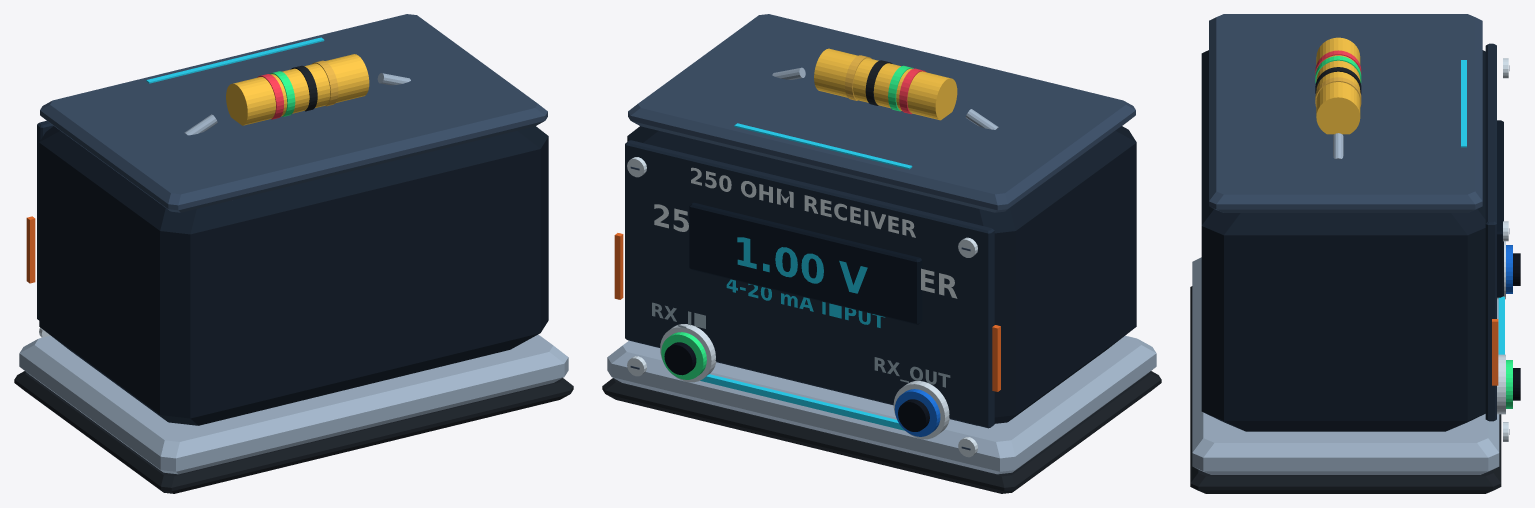
File: 05_250Ohm_Receiver.fbx
3 renders of one model, left to right at view 1: azimuth 30°, elevation 25°; view 2: azimuth 150°, elevation 25°; view 3: azimuth 270°, elevation 25°, orthographic.
Visible parts, largest first — view 1: 05_250Ohm_Receiver__RX_Chassis, 05_250Ohm_Receiver__RX_Top_Lid, 05_250Ohm_Receiver__RX_Aluminum_Base, 05_250Ohm_Receiver__RX_Footpad_Rubber, 05_250Ohm_Receiver__RX_250Ohm_Ceramic_Resistor, 05_250Ohm_Receiver__RX_Top_Status_Light, 05_250Ohm_Receiver__RX_Front_Console_Plate, 05_250Ohm_Receiver__RX_Left_Orange_Edge; view 2: 05_250Ohm_Receiver__RX_Front_Console_Plate, 05_250Ohm_Receiver__RX_Top_Lid, 05_250Ohm_Receiver__RX_Chassis, 05_250Ohm_Receiver__RX_Aluminum_Base, 05_250Ohm_Receiver__RX_OLED_Glass_Bezel, 05_250Ohm_Receiver__RX_Footpad_Rubber, 05_250Ohm_Receiver__RX_250Ohm_Ceramic_Resistor, 05_250Ohm_Receiver__RX_Upper_Brand, 05_250Ohm_Receiver__RX_Neon_Sill, 05_250Ohm_Receiver__RX_Display_OneVolt, 05_250Ohm_Receiver__RX_Sub_Label, 05_250Ohm_Receiver__RX_Main_Label (+8 smaller); view 3: 05_250Ohm_Receiver__RX_Chassis, 05_250Ohm_Receiver__RX_Top_Lid, 05_250Ohm_Receiver__RX_Aluminum_Base, 05_250Ohm_Receiver__RX_Footpad_Rubber, 05_250Ohm_Receiver__RX_Front_Console_Plate, 05_250Ohm_Receiver__RX_250Ohm_Ceramic_Resistor, 05_250Ohm_Receiver__RX_OLED_Glass_Bezel, 05_250Ohm_Receiver__RX_Top_Status_Light, 05_250Ohm_Receiver__RX_RX_IN_Socket_MetalRim, 05_250Ohm_Receiver__RX_Right_Orange_Edge, 05_250Ohm_Receiver__RX_Neon_Sill.
Boxes of the visible parts, x1,y1,x2,y2 form: 05_250Ohm_Receiver__RX_Chassis: [39, 126, 548, 425]; 05_250Ohm_Receiver__RX_Top_Lid: [40, 14, 547, 212]; 05_250Ohm_Receiver__RX_Aluminum_Base: [19, 334, 568, 474]; 05_250Ohm_Receiver__RX_Footpad_Rubber: [14, 371, 573, 493]; 05_250Ohm_Receiver__RX_250Ohm_Ceramic_Resistor: [226, 54, 369, 125]; 05_250Ohm_Receiver__RX_Top_Status_Light: [146, 37, 324, 83]; 05_250Ohm_Receiver__RX_Front_Console_Plate: [37, 120, 53, 320]; 05_250Ohm_Receiver__RX_Left_Orange_Edge: [26, 216, 35, 283]; 05_250Ohm_Receiver__RX_Front_Console_Plate: [625, 140, 994, 428]; 05_250Ohm_Receiver__RX_Top_Lid: [628, 14, 1135, 212]; 05_250Ohm_Receiver__RX_Chassis: [627, 126, 1136, 425]; 05_250Ohm_Receiver__RX_Aluminum_Base: [607, 335, 1156, 474]; 05_250Ohm_Receiver__RX_OLED_Glass_Bezel: [689, 202, 922, 324]; 05_250Ohm_Receiver__RX_Footpad_Rubber: [602, 371, 1161, 493]; 05_250Ohm_Receiver__RX_250Ohm_Ceramic_Resistor: [814, 48, 957, 120]; 05_250Ohm_Receiver__RX_Upper_Brand: [691, 167, 915, 237]; 05_250Ohm_Receiver__RX_Neon_Sill: [700, 374, 904, 430]; 05_250Ohm_Receiver__RX_Display_OneVolt: [737, 237, 867, 293]; 05_250Ohm_Receiver__RX_Sub_Label: [726, 279, 885, 327]; 05_250Ohm_Receiver__RX_Main_Label: [654, 204, 957, 298]; 05_250Ohm_Receiver__RX_Chassis: [1201, 50, 1485, 431]; 05_250Ohm_Receiver__RX_Top_Lid: [1209, 14, 1482, 212]; 05_250Ohm_Receiver__RX_Aluminum_Base: [1192, 257, 1499, 474]; 05_250Ohm_Receiver__RX_Footpad_Rubber: [1190, 286, 1501, 493]; 05_250Ohm_Receiver__RX_Front_Console_Plate: [1485, 43, 1496, 421]; 05_250Ohm_Receiver__RX_250Ohm_Ceramic_Resistor: [1316, 37, 1360, 134]; 05_250Ohm_Receiver__RX_OLED_Glass_Bezel: [1497, 120, 1503, 297]; 05_250Ohm_Receiver__RX_Top_Status_Light: [1461, 60, 1466, 147]; 05_250Ohm_Receiver__RX_RX_IN_Socket_MetalRim: [1497, 354, 1505, 414]; 05_250Ohm_Receiver__RX_Right_Orange_Edge: [1492, 319, 1498, 385]; 05_250Ohm_Receiver__RX_Neon_Sill: [1498, 296, 1504, 354].
Size of the model in its own units: 2.58 by 1.95 by 1.77.
